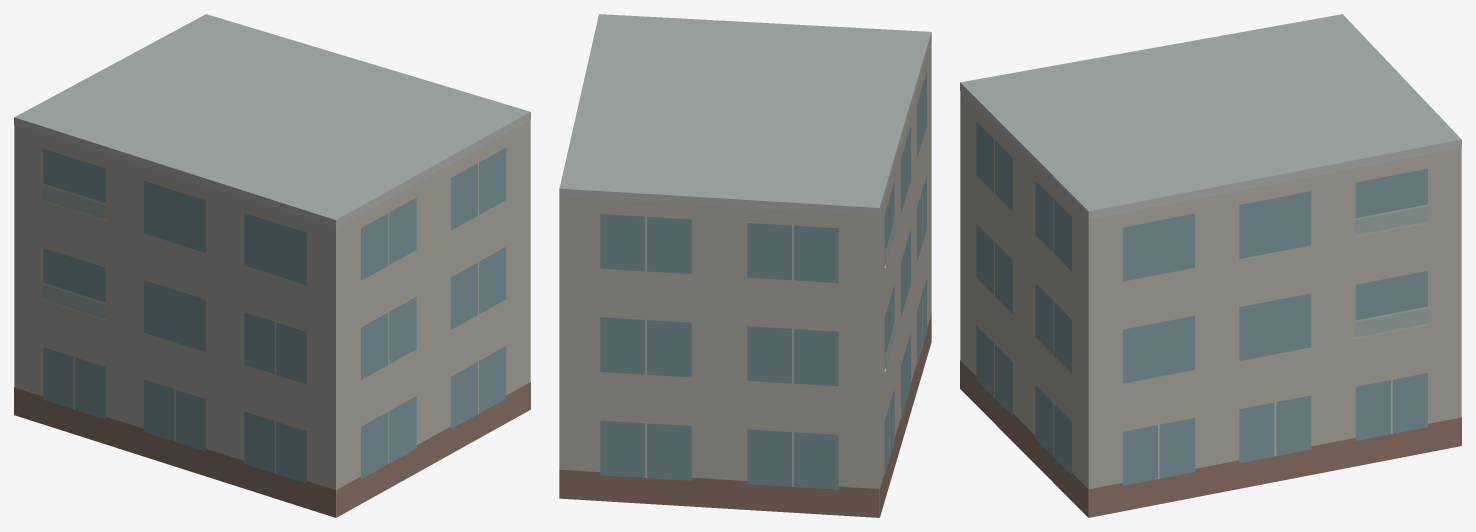
Rendered from survey-upis-32716641.glb.
3 renders of one model, left to right at view 1: azimuth 30°, elevation 25°; view 2: azimuth 150°, elevation 25°; view 3: azimuth 270°, elevation 25°, orthographic. The views are drawn at different scales.
Parts seen in each view (by area): view 1: survey-upis-32716641.tmp; view 2: survey-upis-32716641.tmp; view 3: survey-upis-32716641.tmp.
Boxes of the visible parts, bbox=[...] form: survey-upis-32716641.tmp: bbox=[14, 14, 530, 517]; survey-upis-32716641.tmp: bbox=[559, 14, 931, 517]; survey-upis-32716641.tmp: bbox=[960, 14, 1461, 517].
Bounding box in the file's own units: 12.65 × 9.15 × 13.58.
